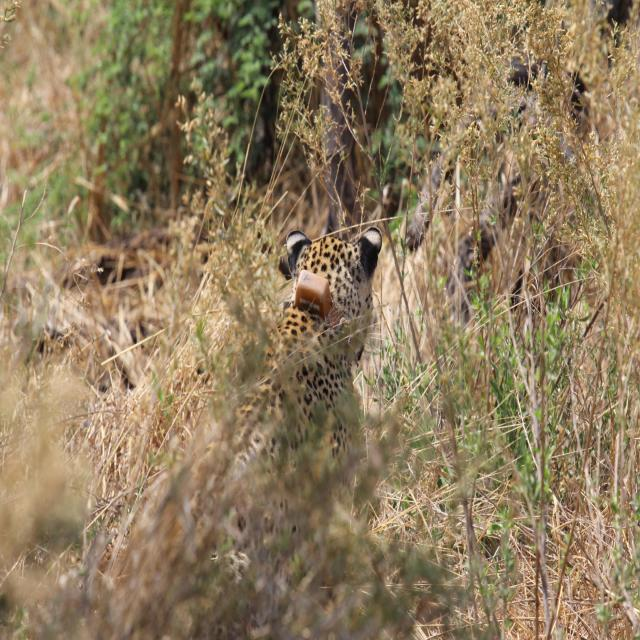Leopard: (160, 225, 394, 525)
